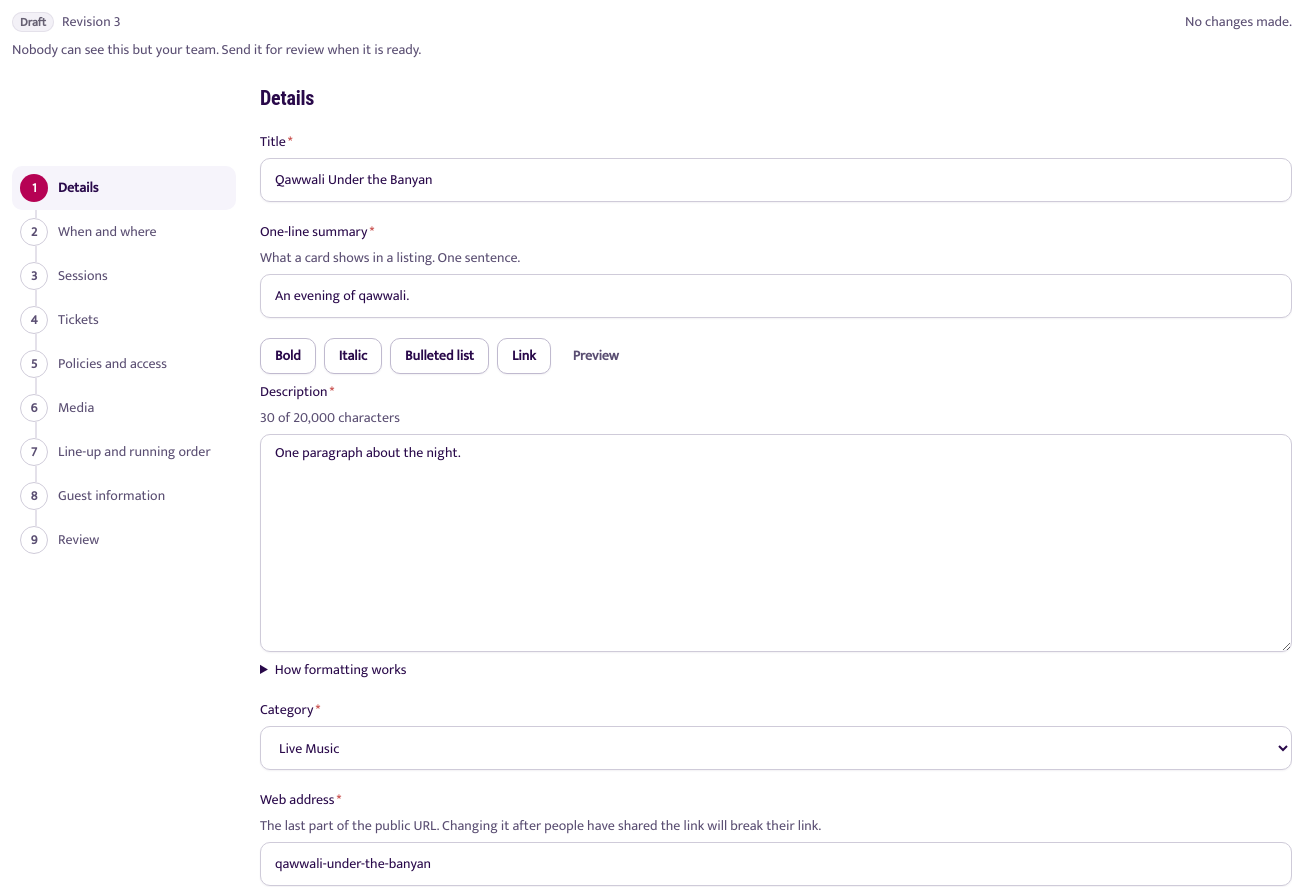
Test: what the editor refuses to send › lists every problem as a link into the field that has it
The image size is (1304, 887).
Clear the field labelled "Title*" at (776, 180), box [260, 158, 1292, 202]
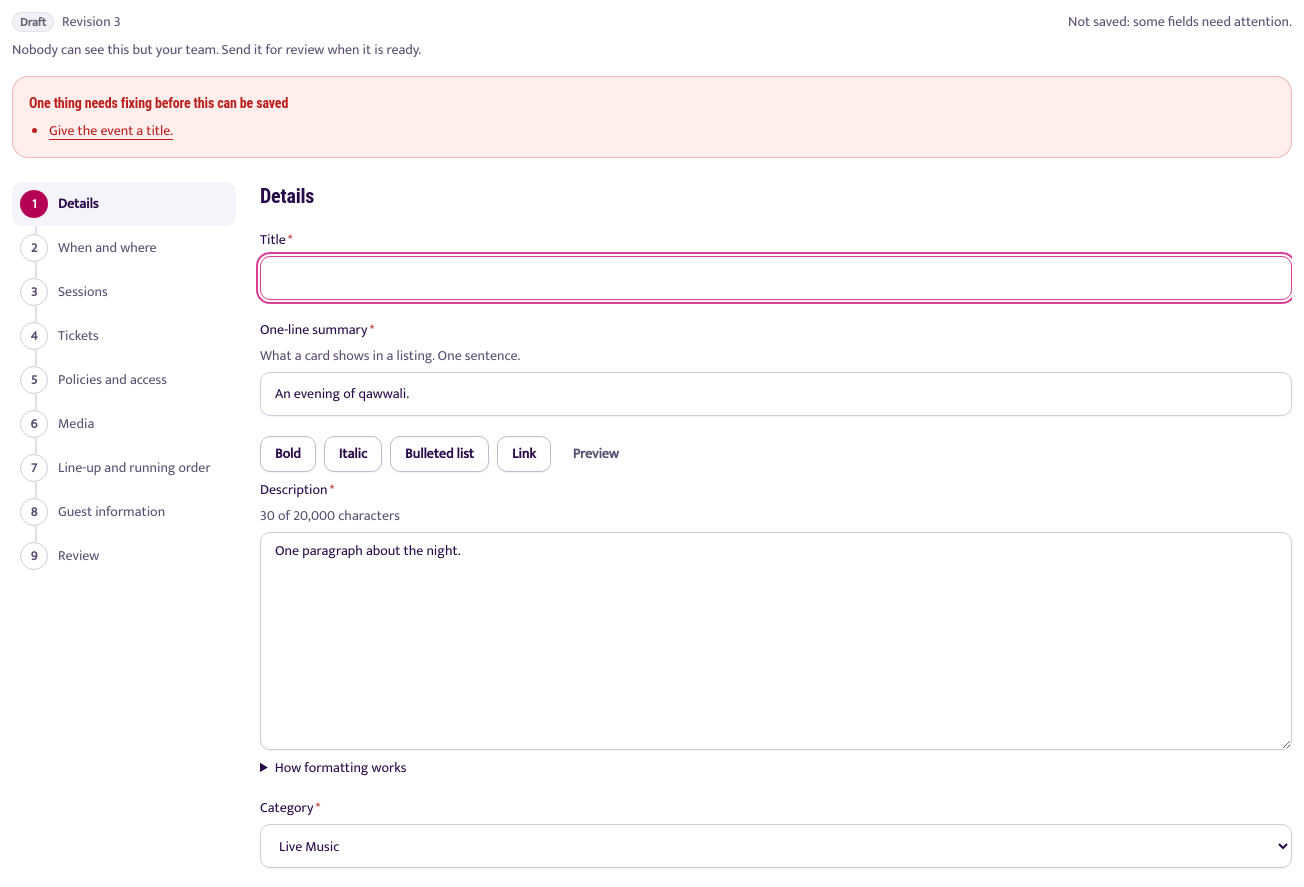
Result: the element with test id "validation-summary" shows "One thing needs fixing" at [29, 95, 288, 111]
